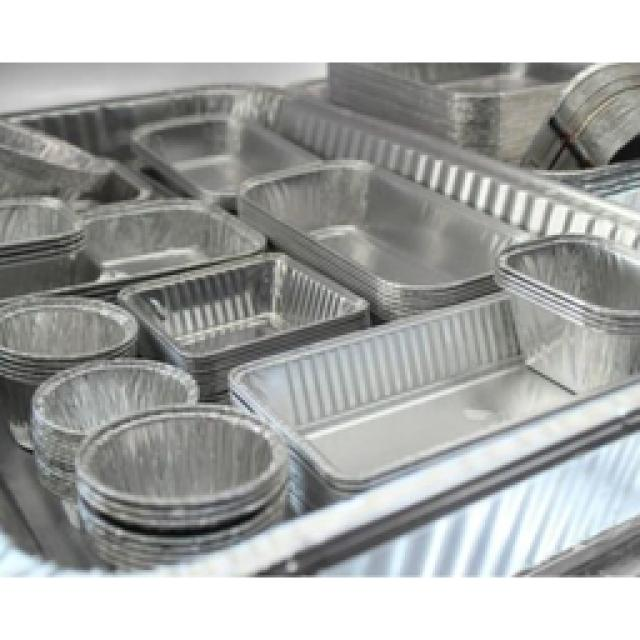alumunium: (0, 52, 640, 576)
